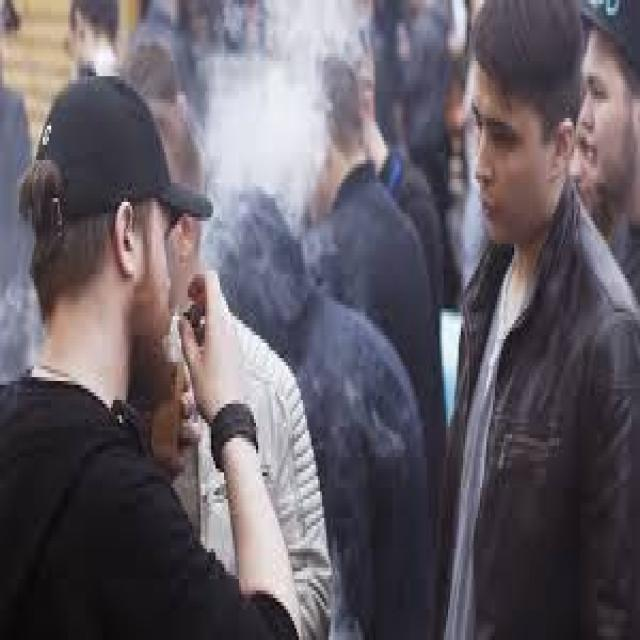Smoke: (166, 0, 374, 287)
